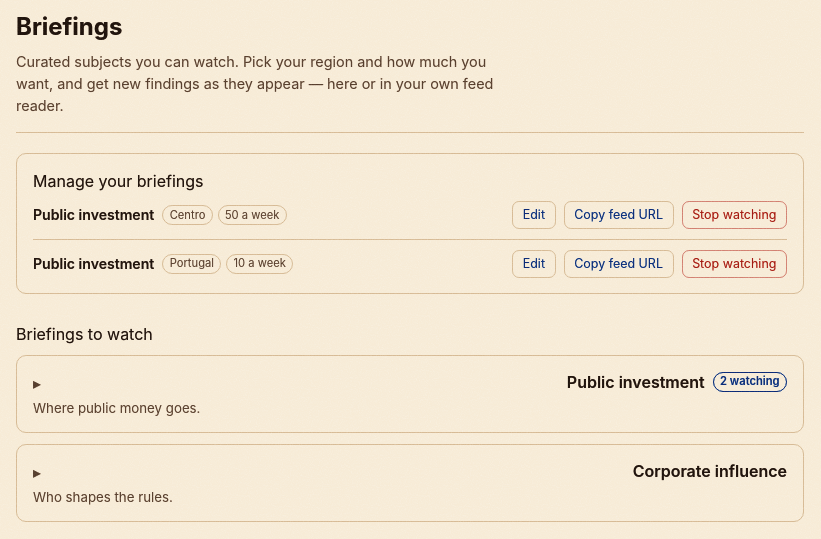
Scenario: BriefingsView — several watches on one briefing › removes one subscription without touching the rest
Click the button with test id "remove-w1" at (734, 215), box [682,201,787,229]
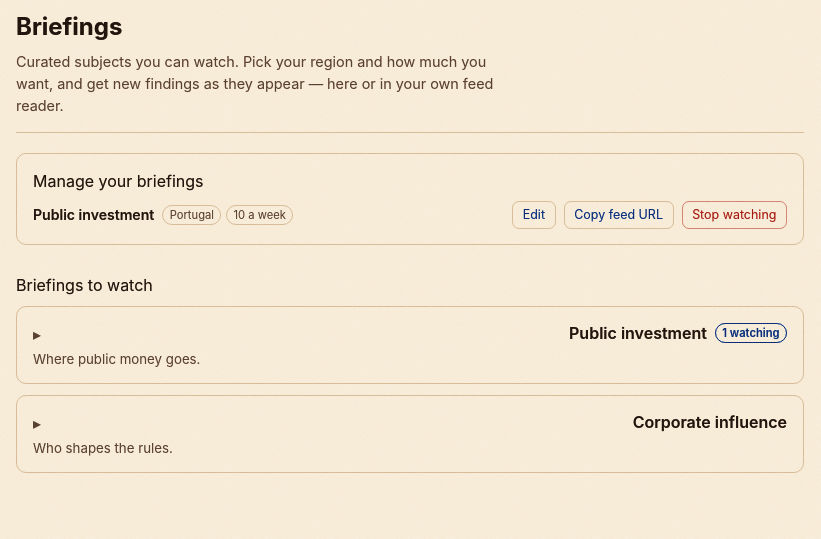
Now the number of list items with class "bf-sub-row" is 1, box [33,201,787,229]
